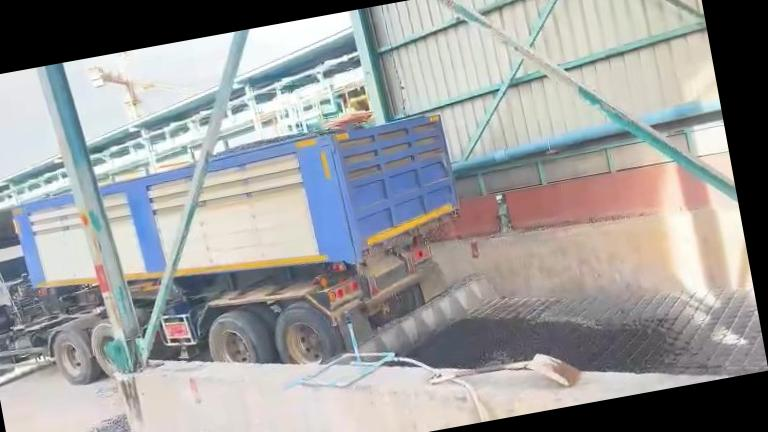gravel: (34, 416, 151, 432)
